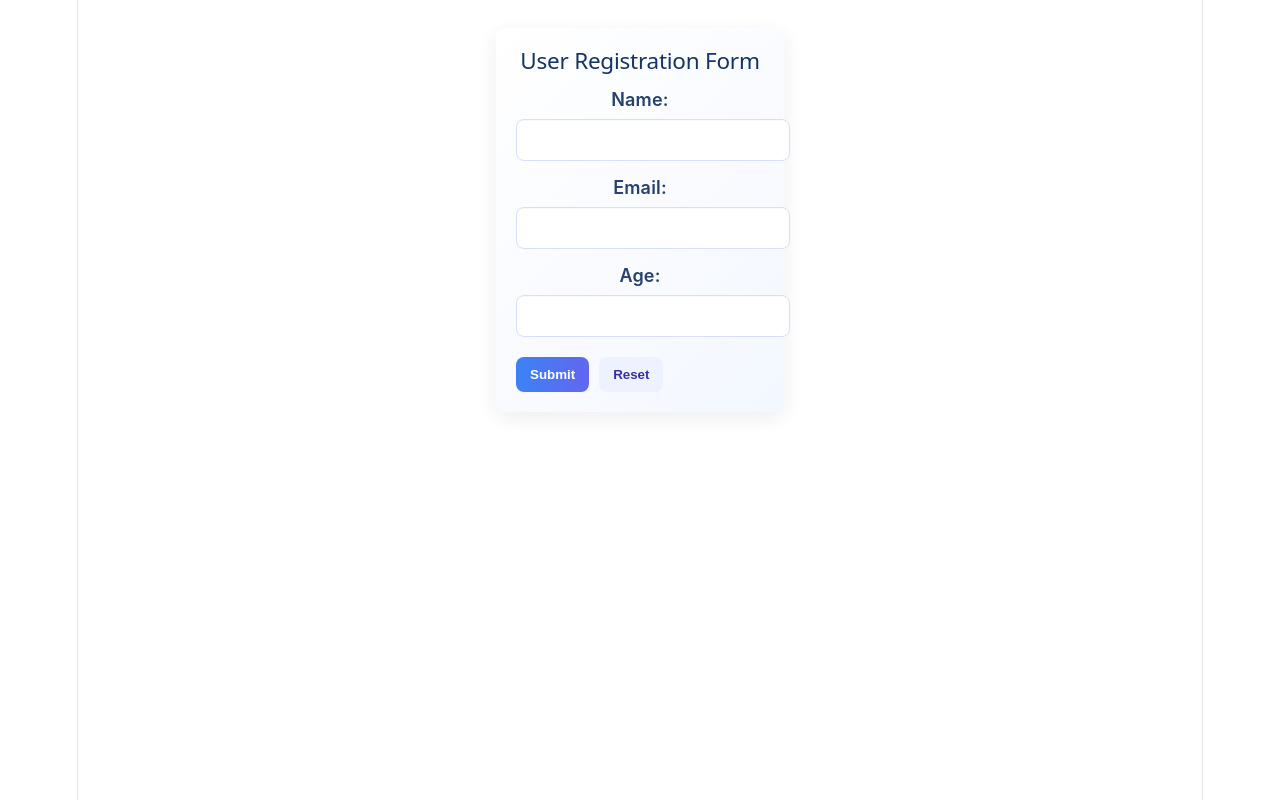
Test case: UserForm › shows validation errors when submitting empty form
What coordinates should you click on to do the following:
click the button "Submit"
I would click on:
 (553, 374)
Its box is [516, 357, 589, 392].
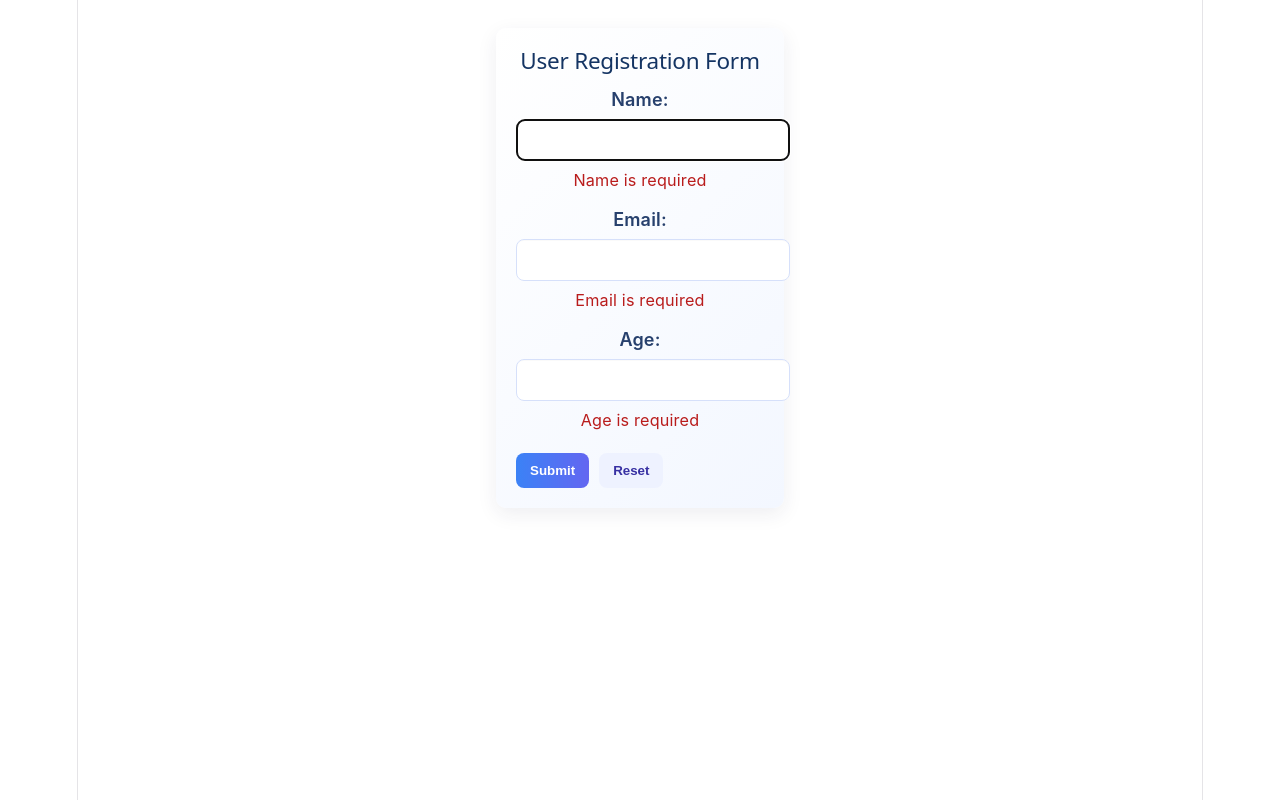
Expected: the text "Name is required" is shown, [573, 170, 707, 190]
Expected: the text "Email is required" is shown, [575, 290, 705, 310]
Expected: the text "Age is required" is shown, [581, 410, 699, 430]
